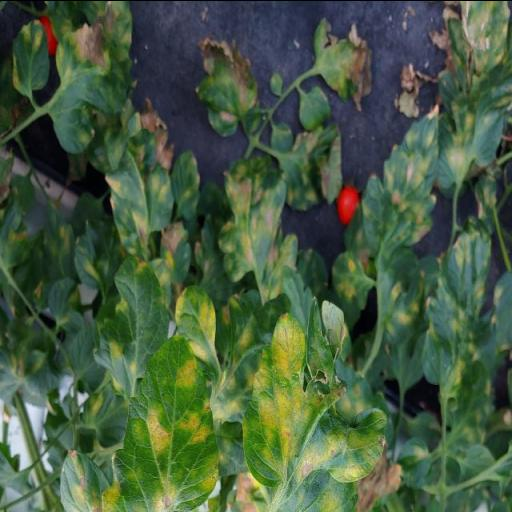disease_tomato: (241, 294, 386, 512), (101, 333, 220, 512), (48, 0, 133, 155), (360, 100, 440, 264), (422, 213, 492, 399), (218, 152, 300, 306), (92, 254, 170, 400), (104, 128, 174, 252), (7, 19, 50, 93)
